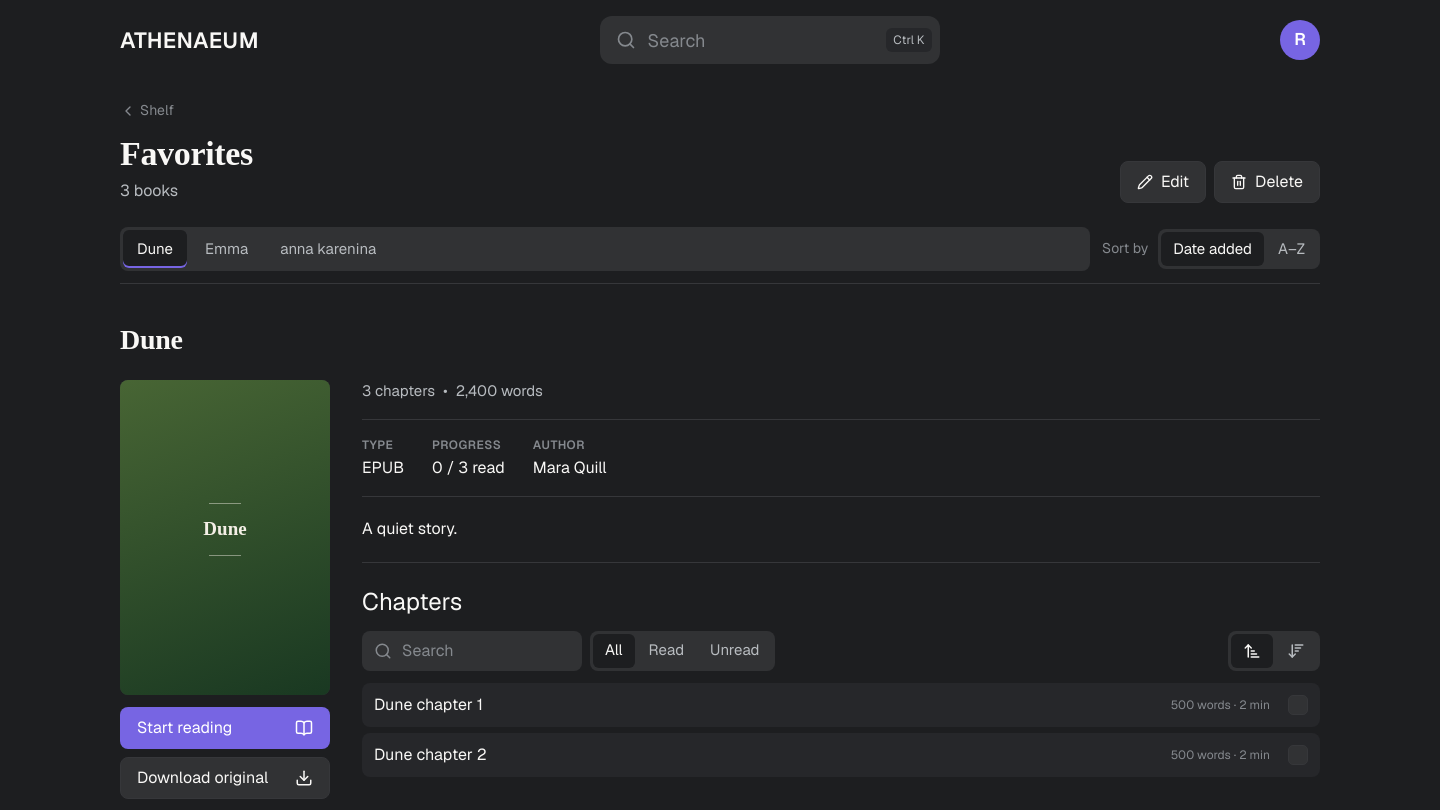
Test: inside a collection › switches to another book's chapters when you pick its tab
The image size is (1440, 810).
Expected: the panel "Dune" is shown, x1=120 y1=308 x2=1320 y2=799
Click the tab "Emma": (227, 249) x1=191 y1=230 x2=262 y2=268
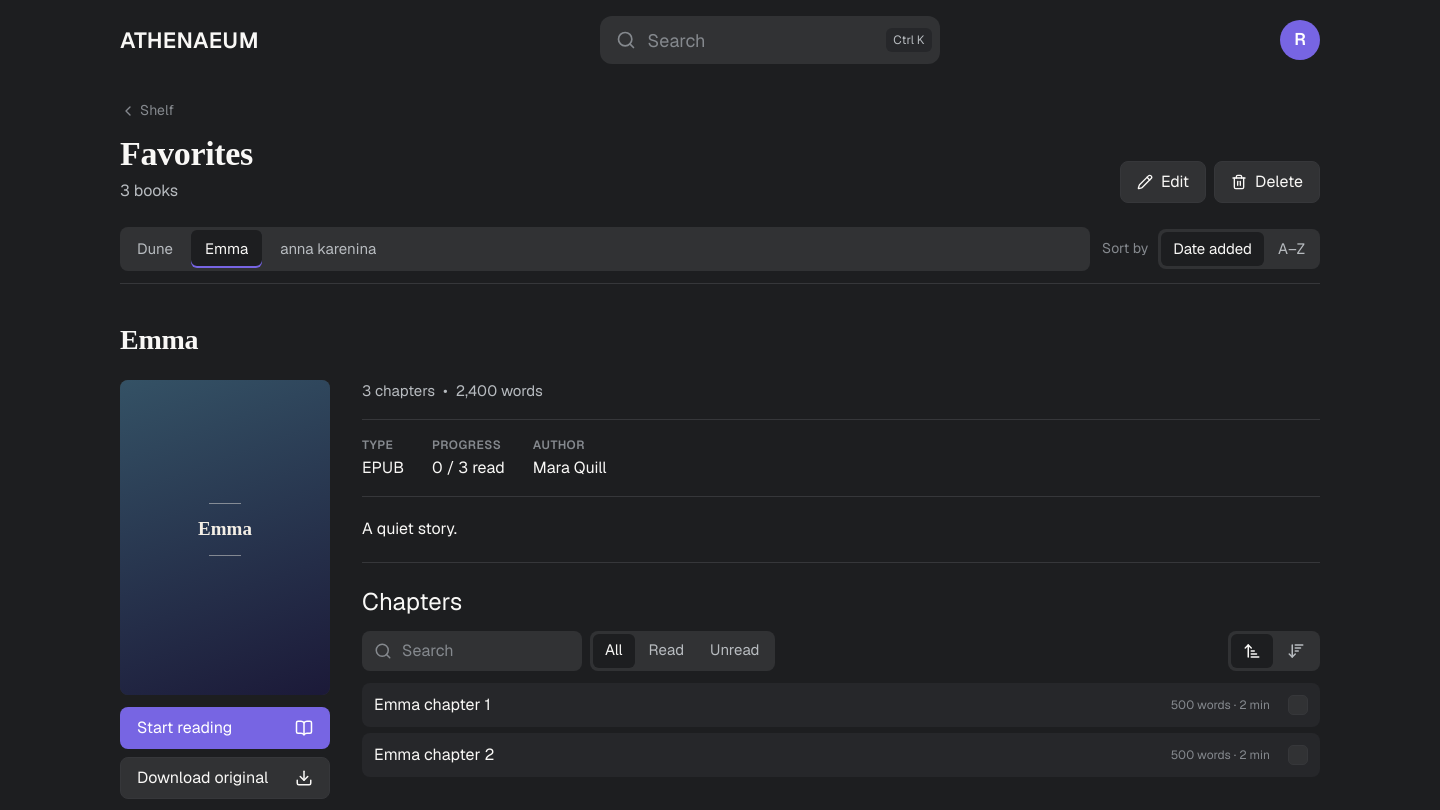
Now the text "Emma chapter 2" is shown, box x1=374 y1=743 x2=494 y2=767
Now the link "Dune chapter 1" is gone
